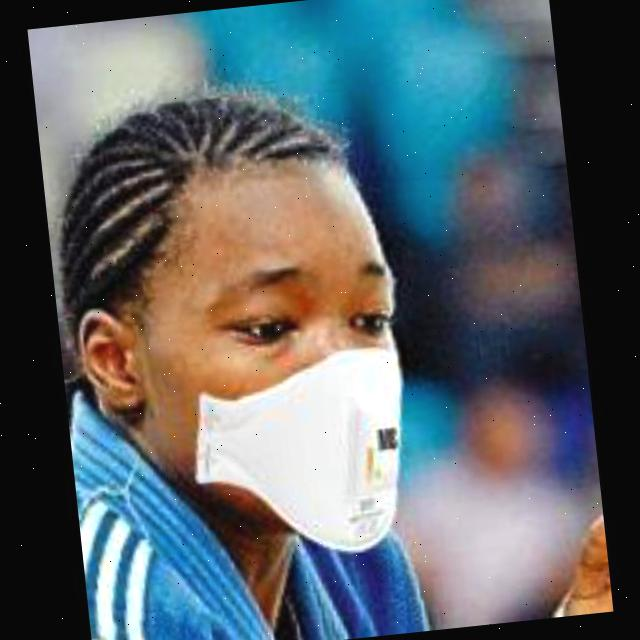suspicion: (39, 72, 425, 562)
